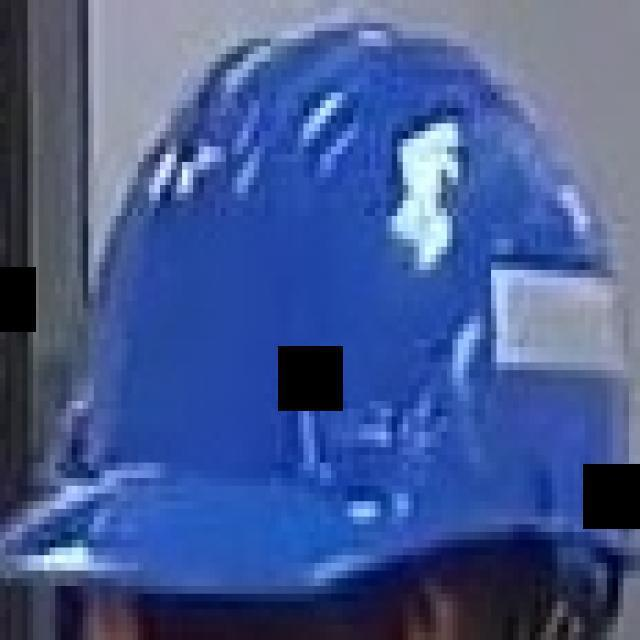blue helmet: (9, 30, 640, 604)
